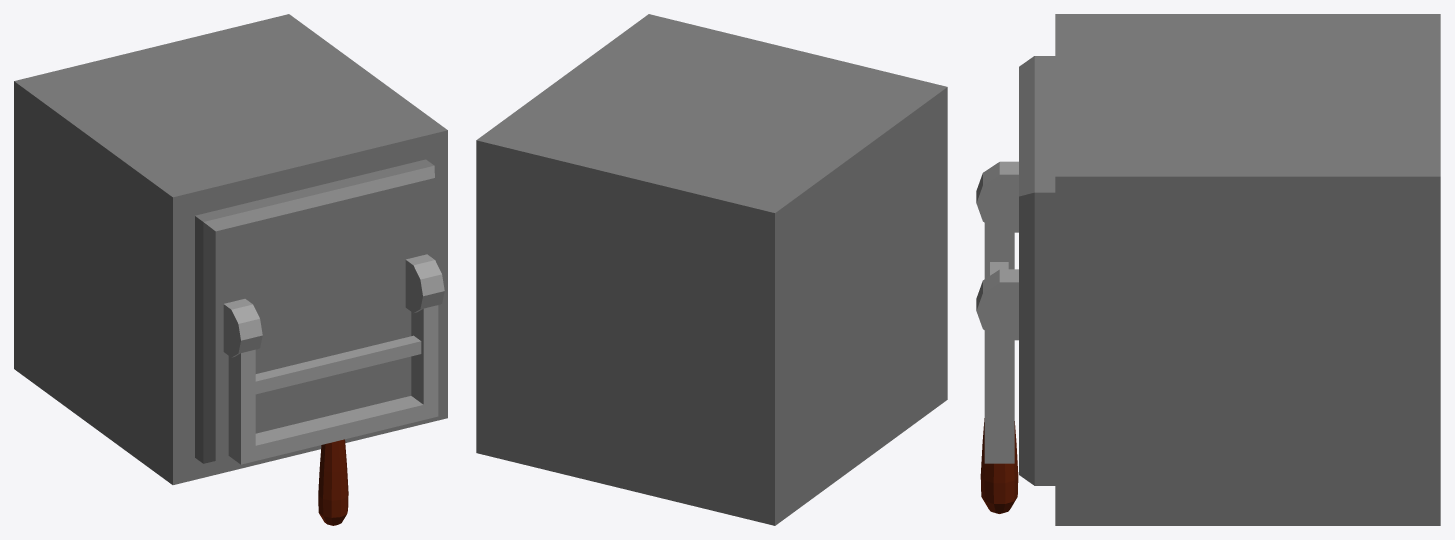
Rendered from Interuptor.fbx.
3 renders of one model, left to right at view 1: azimuth 30°, elevation 25°; view 2: azimuth 150°, elevation 25°; view 3: azimuth 270°, elevation 25°, orthographic. The views are drawn at different scales.
Parts seen in each view (by area): view 1: Interuptor; view 2: Interuptor; view 3: Interuptor.
Part boxes in pixels (bbox=[...]): Interuptor: bbox=[14, 14, 447, 525]; Interuptor: bbox=[476, 14, 947, 525]; Interuptor: bbox=[976, 14, 1440, 525].
Size of the model in its own units: 27.96 by 33.53 by 33.67.
1 material, 1 textured.
